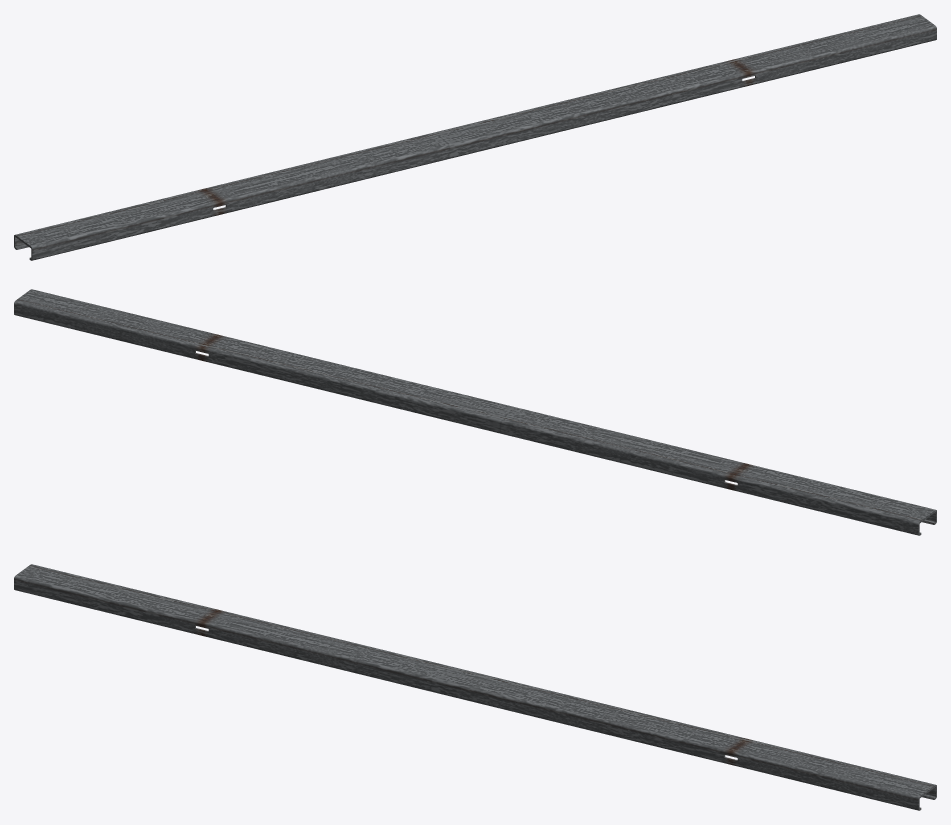
Rendered from full.glb.
The picture shows the model from 3 angles, top to bottom: view 1: azimuth 30°, elevation 25°; view 2: azimuth 150°, elevation 25°; view 3: azimuth 330°, elevation 25°; orthographic projection.
Visible parts, largest first — view 1: seat_rail_full; view 2: seat_rail_full; view 3: seat_rail_full.
Part boxes in pixels (x1=…): seat_rail_full: x1=14, y1=14, x2=936, y2=260; seat_rail_full: x1=14, y1=289, x2=936, y2=535; seat_rail_full: x1=14, y1=564, x2=936, y2=810.
Size of the model in its own units: 1.2 by 0.018 by 0.042.
Materials: 1 (1 with a texture image).
